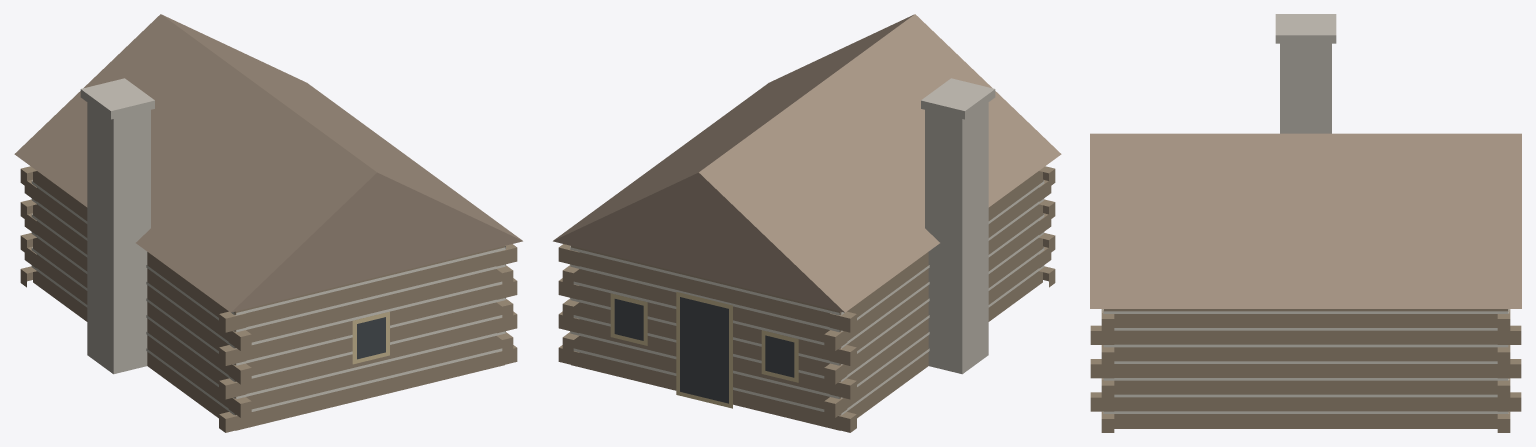
The model's file is recon_1835_blk_randolph_dearborn_d1_16__inferred_1835.glb.
The picture shows the model from 3 angles, left to right: view 1: azimuth 30°, elevation 25°; view 2: azimuth 150°, elevation 25°; view 3: azimuth 270°, elevation 25°; orthographic projection.
Visible parts, largest first — view 1: recon_1835_blk_randolph_dearborn_d1_16__inferred_1835; view 2: recon_1835_blk_randolph_dearborn_d1_16__inferred_1835; view 3: recon_1835_blk_randolph_dearborn_d1_16__inferred_1835.
Part boxes in pixels (<box>): recon_1835_blk_randolph_dearborn_d1_16__inferred_1835: <box>14,14,522,432</box>; recon_1835_blk_randolph_dearborn_d1_16__inferred_1835: <box>553,14,1061,432</box>; recon_1835_blk_randolph_dearborn_d1_16__inferred_1835: <box>1090,14,1521,432</box>.
Bounding box in the file's own units: 6.81 × 5.47 × 7.99.
